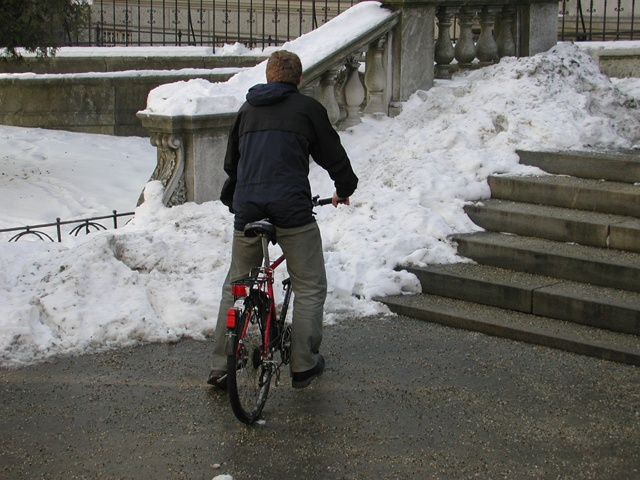person: (208, 50, 360, 391)
